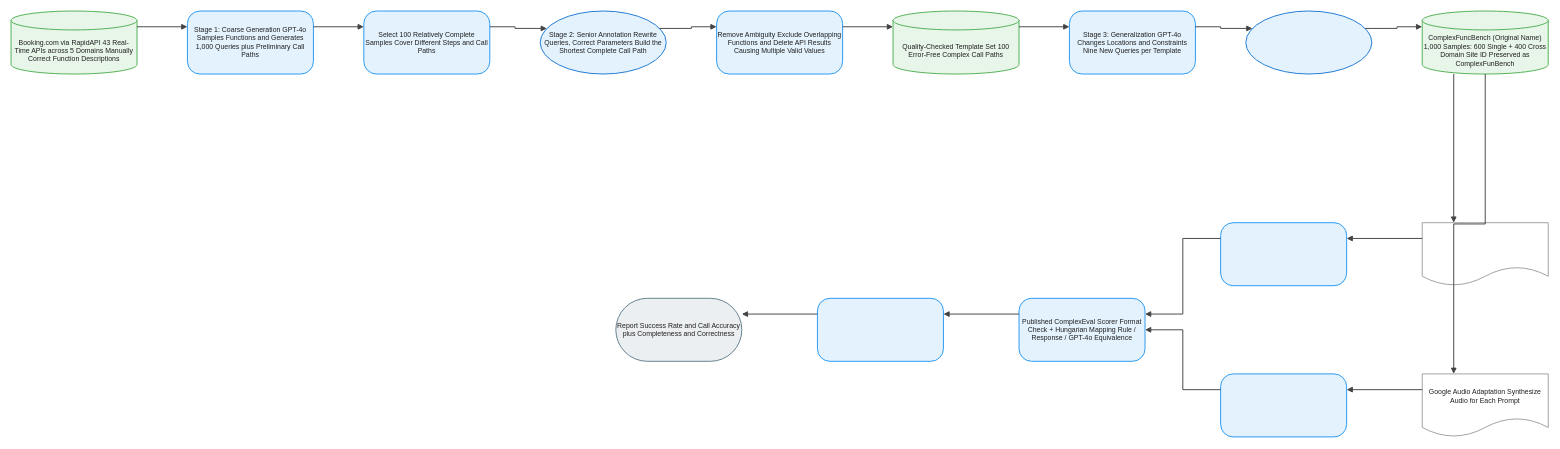
Image size: 1560x449. Some labels were removed from this diagram. The box of each missing label's shape, as (x1, y1, x2, y2) in pixels:
GPT-4o Final-Response Review Completeness and Correctness (0 to 2): (817, 298, 944, 361)
Junior Annotators Fill Parameters Preserve Paths and Disambiguate Responses: (1245, 10, 1372, 74)
Model Iteratively Generates Calls Receive Annotated API Responses: (1220, 222, 1347, 286)
Published Text-to-Text Protocol Static Context and Interdependent Calls: (1421, 222, 1548, 286)
Run through Gemini Live API Process Audio Prompts and Function Calls: (1220, 373, 1347, 437)
